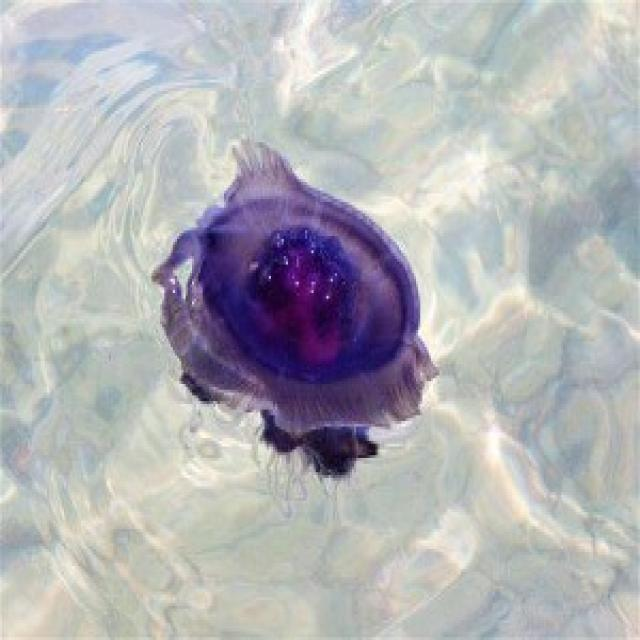Jellyfish: (128, 139, 454, 504)
